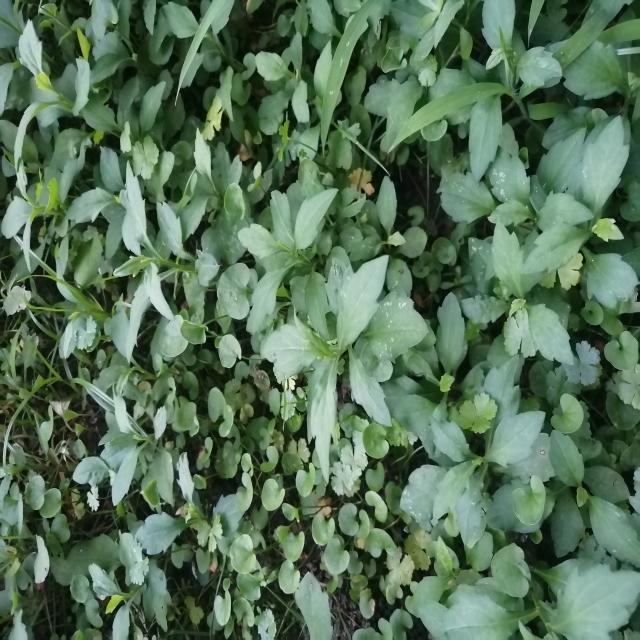Indian aster: (265, 262, 432, 444), (94, 152, 226, 346), (420, 397, 561, 564)
